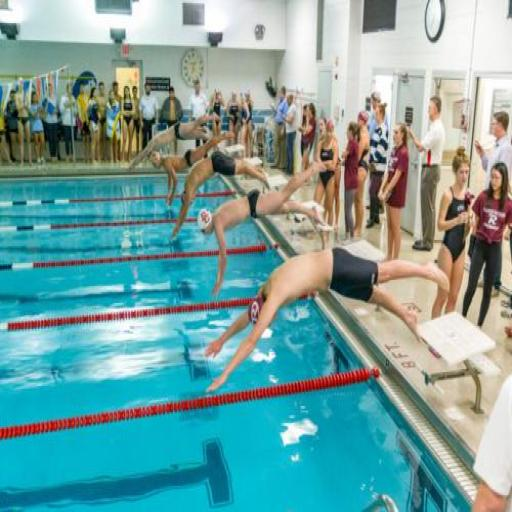swimming: (202, 244, 452, 396), (196, 157, 332, 300), (167, 148, 272, 244), (460, 160, 511, 330), (146, 120, 238, 209)
